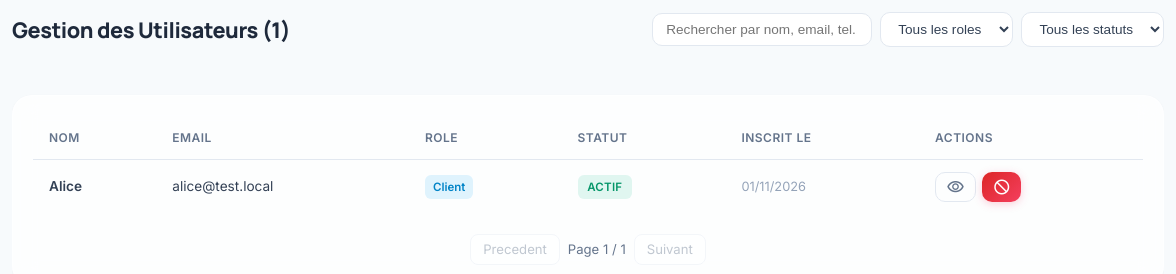
Test: AdminUsers › bascule le statut actif puis recharge la liste
Expected: the text "Alice" is shown, [33,160,156,214]
Click the 2nd button with class "adm-btn" at (1002, 187), box [982,172,1021,202]
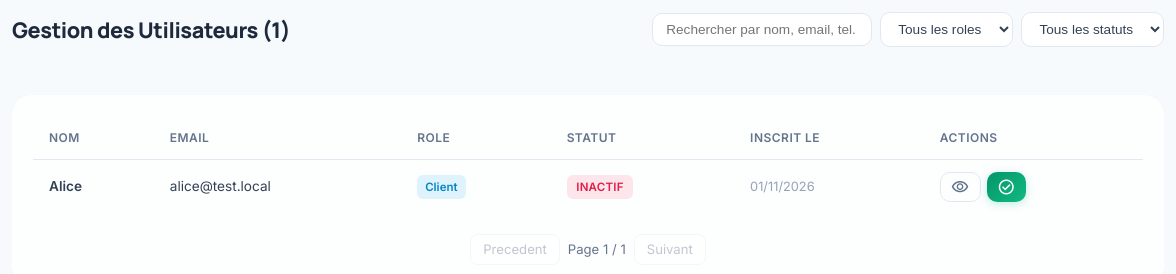
Now the text with class "adm-badge" reads "Inactif", box [576,180,624,194]
